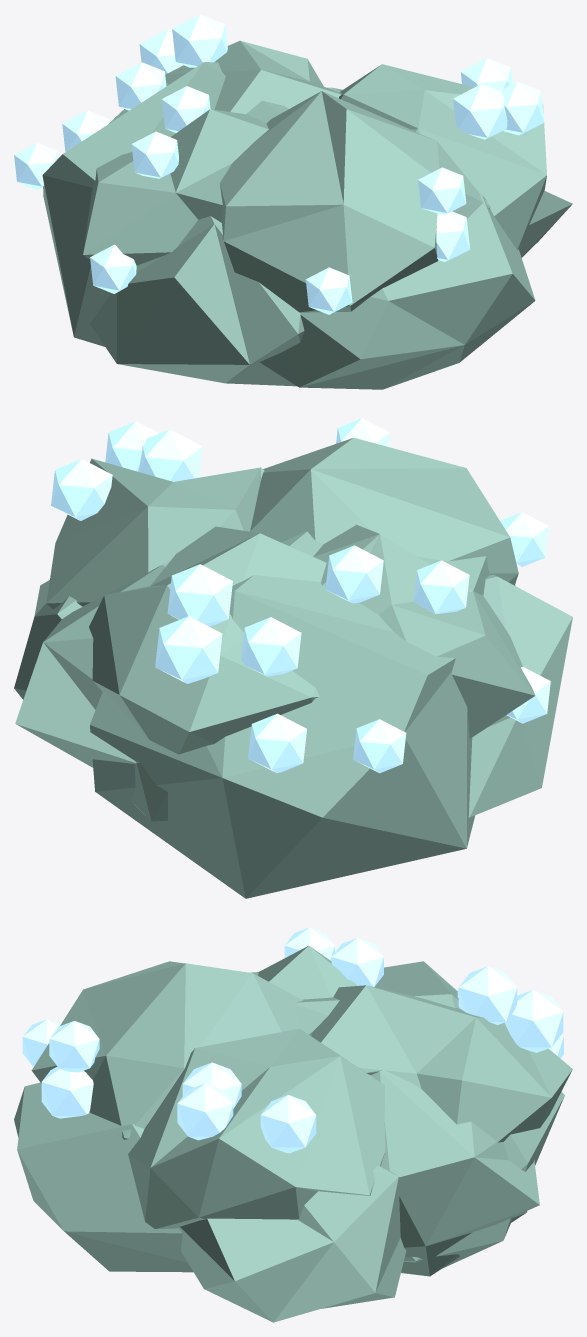
The model's file is moonberry-bush.glb.
3 views of the same model, one above another, from view 1: azimuth 30°, elevation 25°; view 2: azimuth 150°, elevation 25°; view 3: azimuth 270°, elevation 25° (orthographic). The views are drawn at different scales.
Parts seen in each view (by area): view 1: Leaves, Fruit; view 2: Leaves, Fruit; view 3: Leaves, Fruit.
Boxes of the visible parts, x1,y1,x2,y2 form: Leaves: (42, 40, 572, 389); Fruit: (14, 14, 544, 314); Leaves: (14, 437, 572, 898); Fruit: (51, 418, 550, 773); Leaves: (14, 945, 572, 1322); Fruit: (22, 927, 563, 1153).
Bounding box in the file's own units: 1 × 0.62 × 0.9729.
